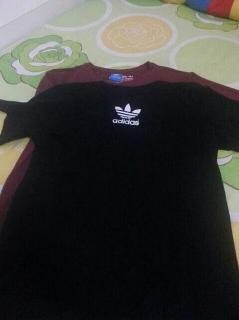short sleeve top: (0, 62, 239, 319), (0, 82, 239, 319)
